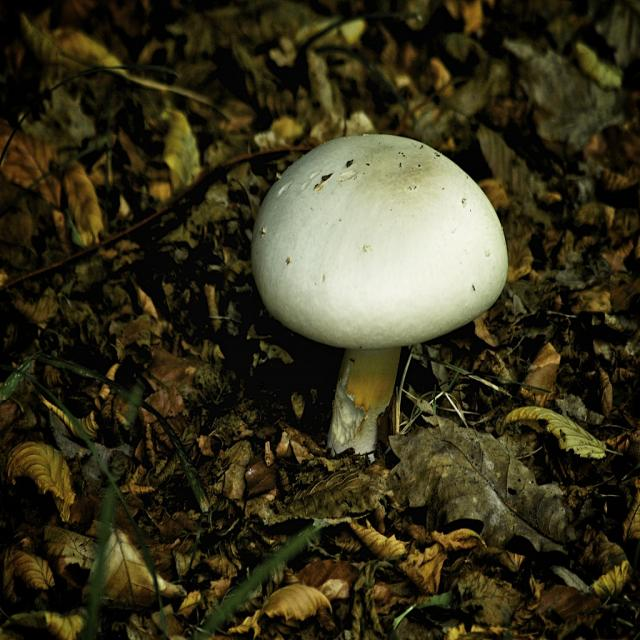Mushroom: (252, 134, 510, 457)
